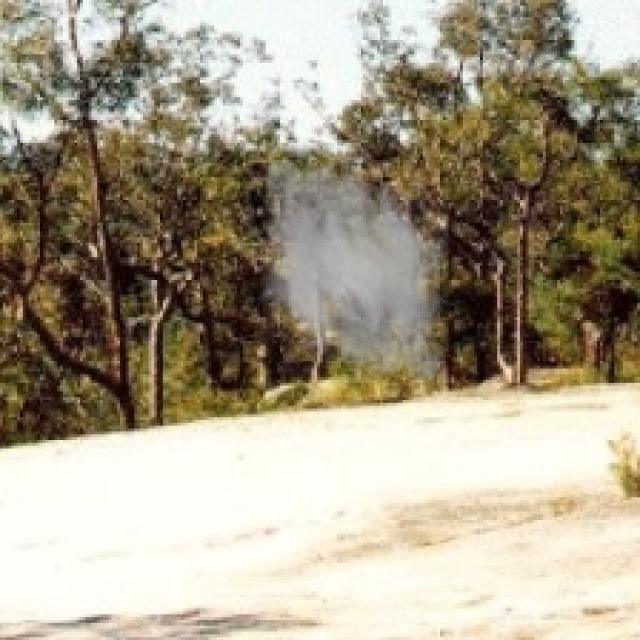smoke: (248, 148, 463, 392)
